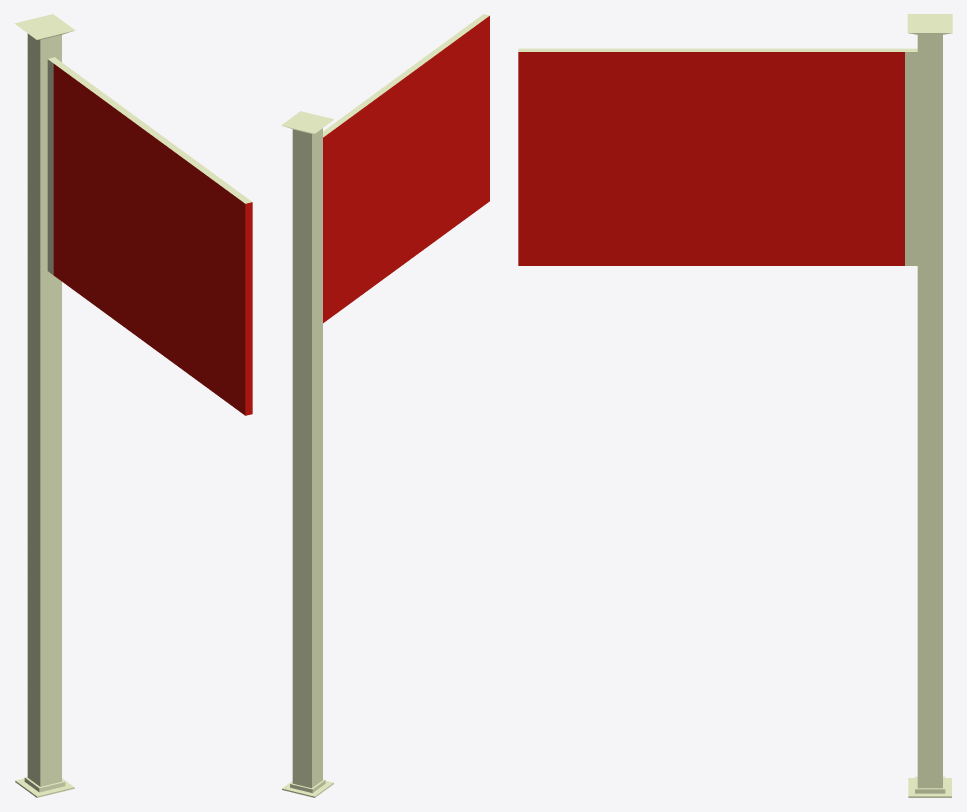
File: 驻守旗子.fbx
The picture shows the model from 3 angles, left to right: view 1: azimuth 30°, elevation 25°; view 2: azimuth 150°, elevation 25°; view 3: azimuth 270°, elevation 25°; orthographic projection. The views are drawn at different scales.
Visible parts, largest first — view 1: Cube; view 2: Cube; view 3: Cube.
Boxes of the visible parts, left/top/right/bottom form: Cube: left=14, top=14, right=252, bottom=797; Cube: left=281, top=14, right=489, bottom=797; Cube: left=518, top=14, right=952, bottom=797.
Bounding box in the file's own units: 81.95 × 1530 × 787.
